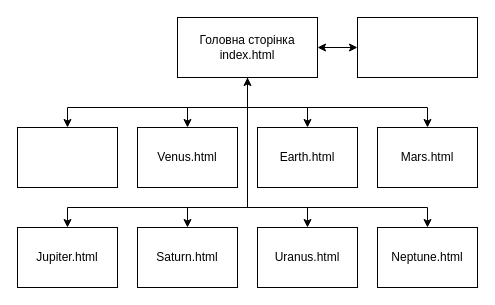
Image size: 495x305. Some labels were removed from this diagram. The shapes that lost their labels are listed below. From the top down, each one's centre as x and y in pixels, then its label:
At point 417,47: "about.html".
At point 67,157: "Mercury.html".
